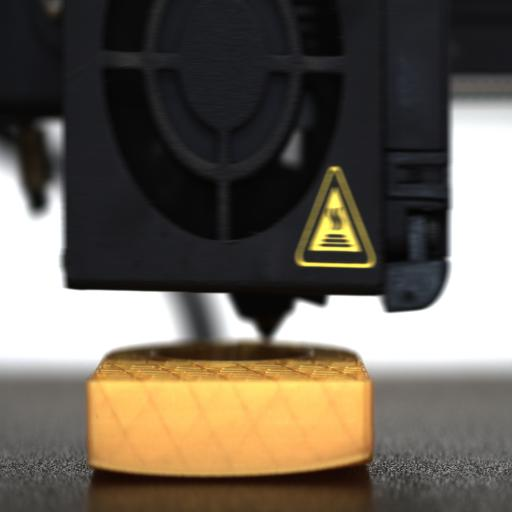warp: (328, 444, 376, 476), (87, 448, 131, 478)
